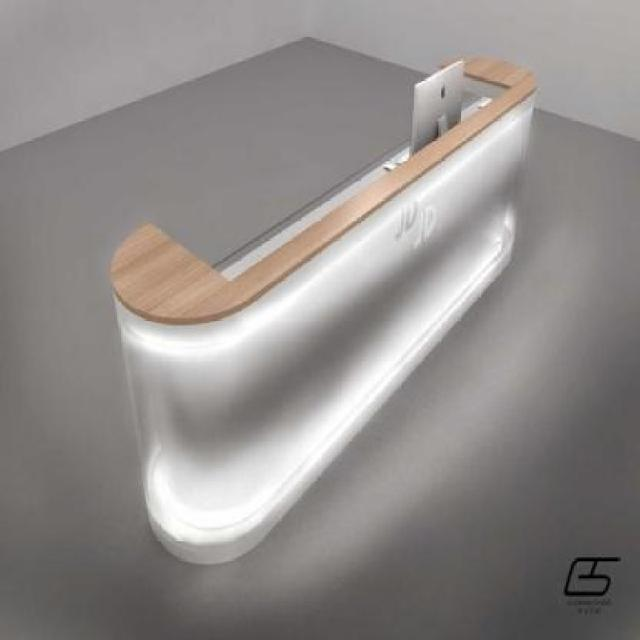frontdesk: (100, 46, 541, 582)
